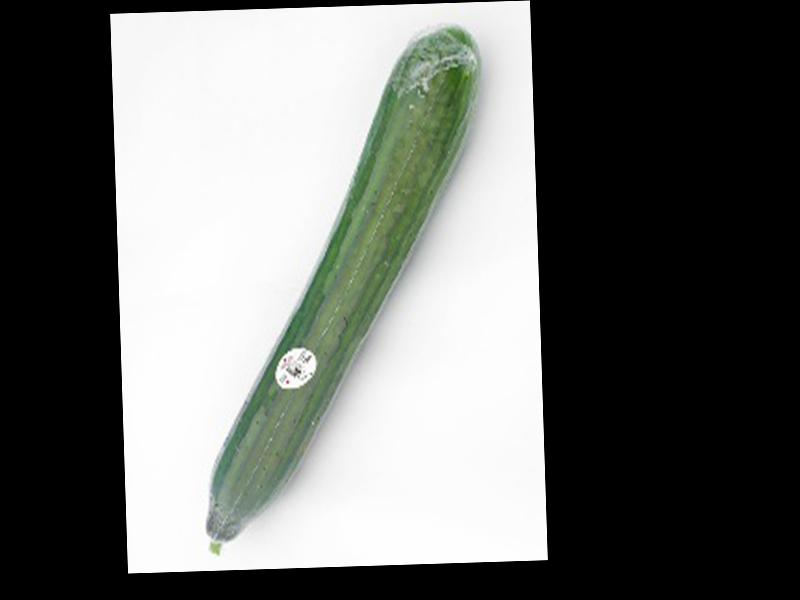Cucumber: (189, 29, 492, 554)
